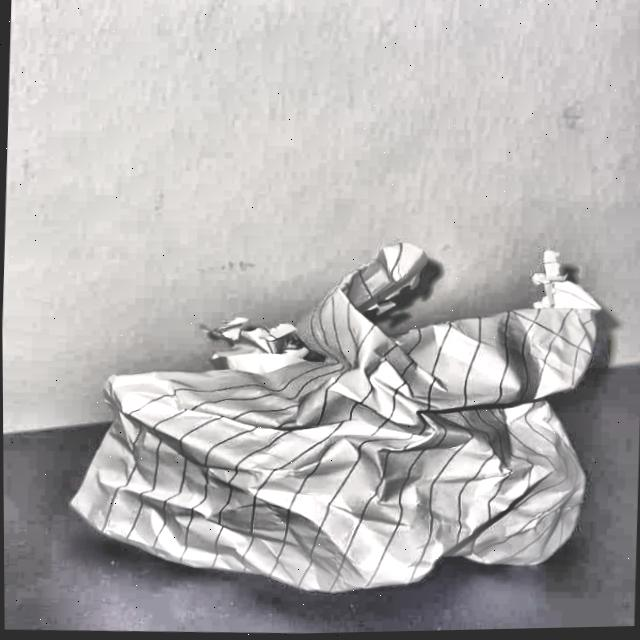paper: (66, 239, 640, 618)
